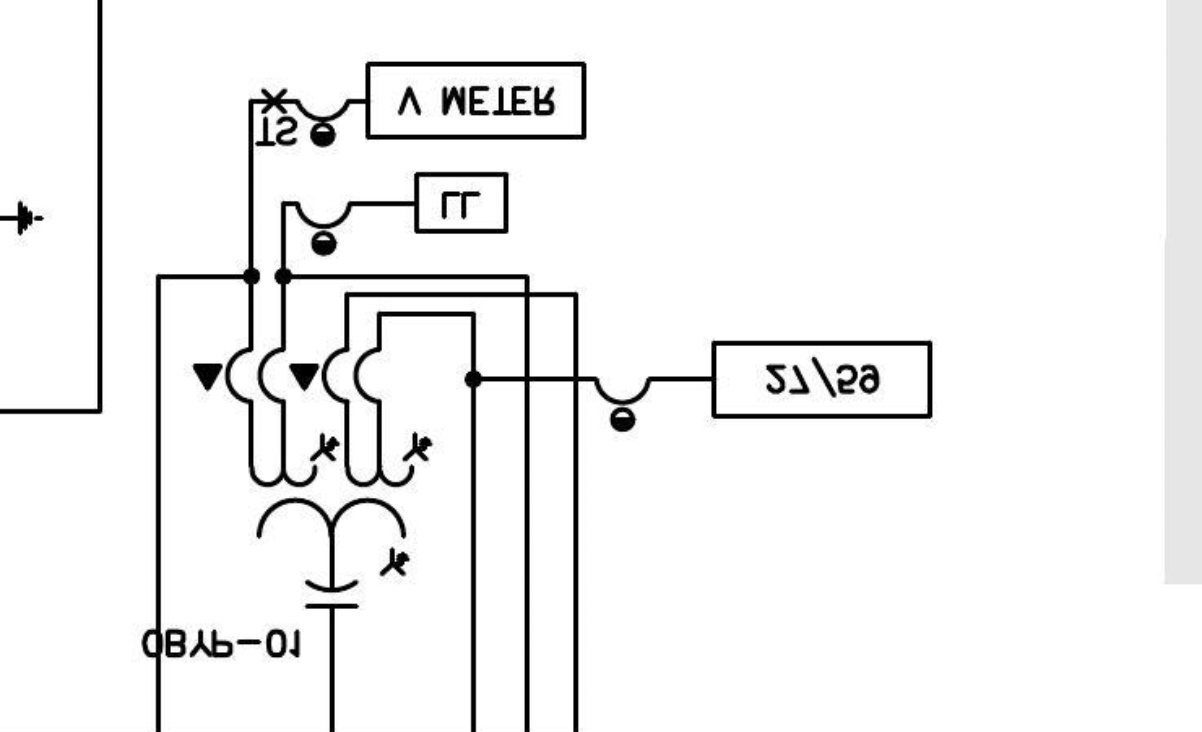115_cvt_3p: (190, 344, 434, 610)
LL: (413, 170, 510, 235)
v_m_digital: (363, 60, 588, 141)
